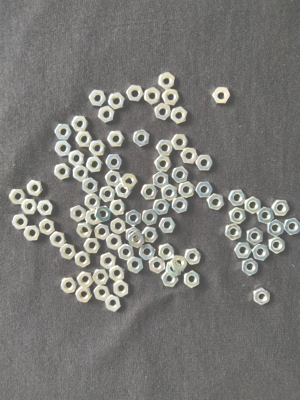nut: (246, 227, 264, 246), (271, 200, 291, 217), (162, 88, 180, 106), (257, 207, 275, 225), (229, 207, 247, 225), (225, 223, 243, 241), (253, 288, 271, 306), (213, 87, 232, 104), (242, 258, 259, 277), (89, 90, 107, 107), (155, 103, 172, 121), (171, 107, 188, 125), (181, 148, 199, 165), (179, 181, 196, 199), (207, 194, 225, 211), (267, 220, 285, 237), (252, 244, 270, 261), (234, 242, 252, 259), (49, 231, 67, 248), (106, 233, 123, 251), (118, 244, 135, 262), (100, 252, 117, 270), (127, 256, 144, 274), (149, 256, 166, 274), (185, 248, 202, 266), (170, 255, 188, 272), (165, 261, 182, 279), (105, 295, 122, 313), (184, 270, 200, 289), (127, 85, 144, 102), (108, 93, 125, 110), (98, 106, 115, 123), (172, 167, 189, 184), (269, 237, 286, 254), (153, 172, 170, 189), (172, 197, 189, 214), (153, 199, 170, 216), (142, 209, 159, 226), (110, 199, 127, 216), (94, 206, 111, 223), (60, 244, 77, 261), (39, 219, 56, 236), (142, 227, 159, 244), (139, 244, 156, 261), (61, 277, 78, 294), (94, 285, 111, 302), (159, 72, 175, 90), (145, 87, 161, 105), (196, 155, 214, 171), (156, 140, 174, 156), (72, 116, 90, 132), (55, 124, 73, 140), (75, 132, 93, 148), (155, 156, 173, 172), (196, 182, 214, 198), (229, 190, 247, 206), (245, 197, 261, 215), (284, 218, 300, 236), (73, 165, 89, 183), (120, 174, 138, 190), (83, 177, 99, 195), (75, 251, 91, 269), (9, 189, 27, 205), (94, 223, 110, 241), (129, 231, 145, 249), (109, 265, 125, 283), (114, 280, 130, 298), (75, 287, 93, 303), (134, 130, 150, 147), (108, 131, 125, 147), (89, 140, 106, 156), (55, 141, 72, 157), (69, 150, 85, 167), (106, 154, 123, 170), (86, 157, 103, 173), (54, 164, 71, 180), (162, 184, 178, 201), (141, 184, 158, 200), (115, 183, 132, 199), (100, 186, 116, 203), (126, 210, 142, 227), (70, 205, 86, 222), (77, 222, 94, 238), (84, 238, 101, 254), (24, 225, 41, 241), (12, 214, 29, 230), (37, 200, 54, 216), (21, 199, 38, 215), (27, 180, 43, 197), (159, 244, 175, 261), (92, 269, 109, 285), (77, 272, 94, 288), (105, 171, 121, 187), (85, 194, 101, 210), (86, 210, 102, 226), (172, 135, 189, 150), (159, 218, 176, 233), (111, 218, 126, 235), (162, 272, 179, 287), (126, 227, 142, 242)
